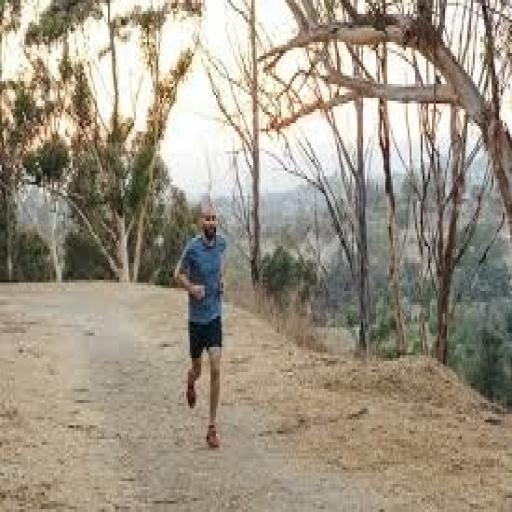running: (171, 196, 231, 453)
